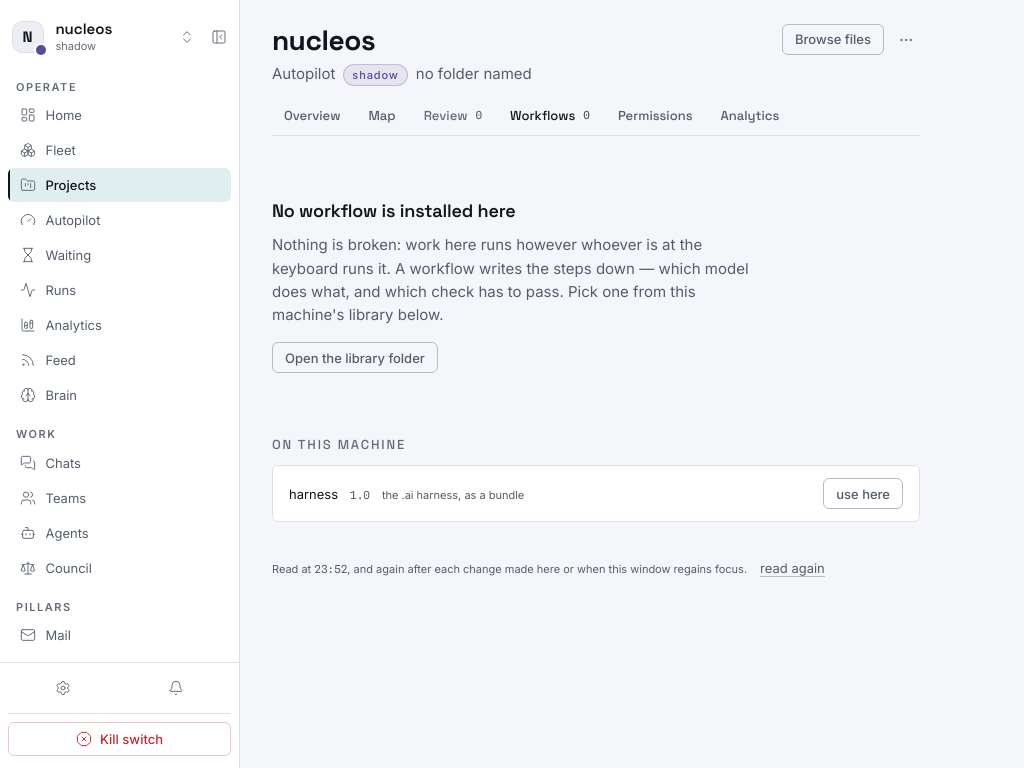
Test: the workflows mode › says so when the background service gives no reply to a change
The image size is (1024, 768).
Click the button "use here" at (863, 494), box [823,478,903,509]
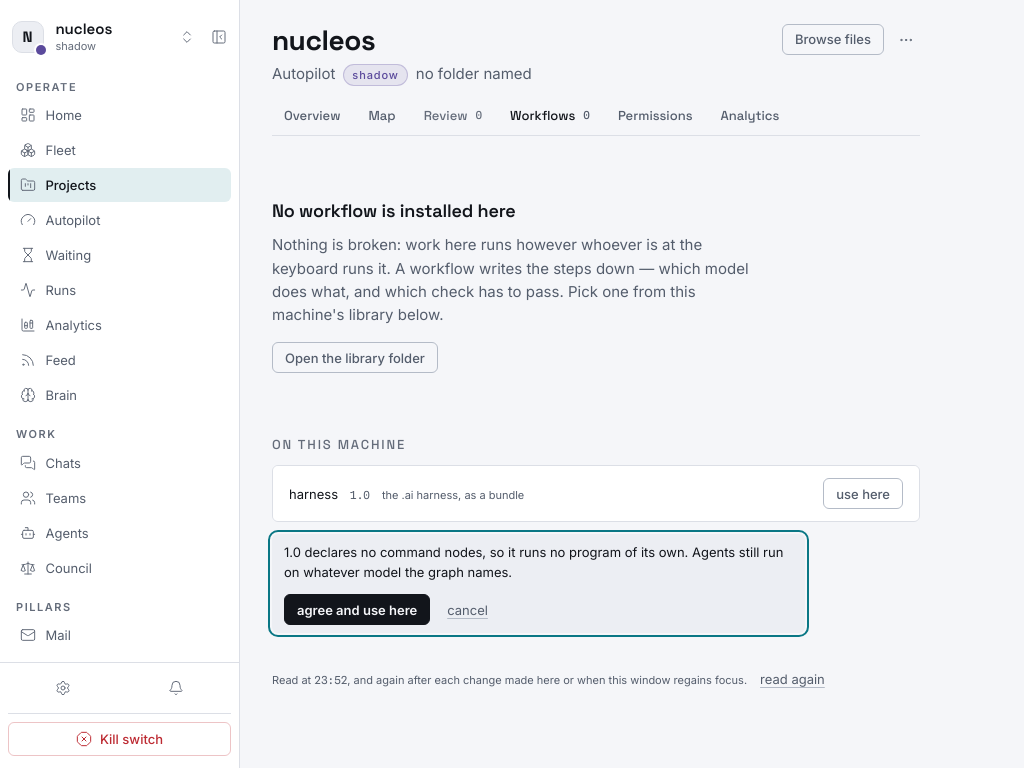
Check: the button "agree and use here" is enabled
Click the button "agree and use here" at (357, 610), box [284,594,430,626]
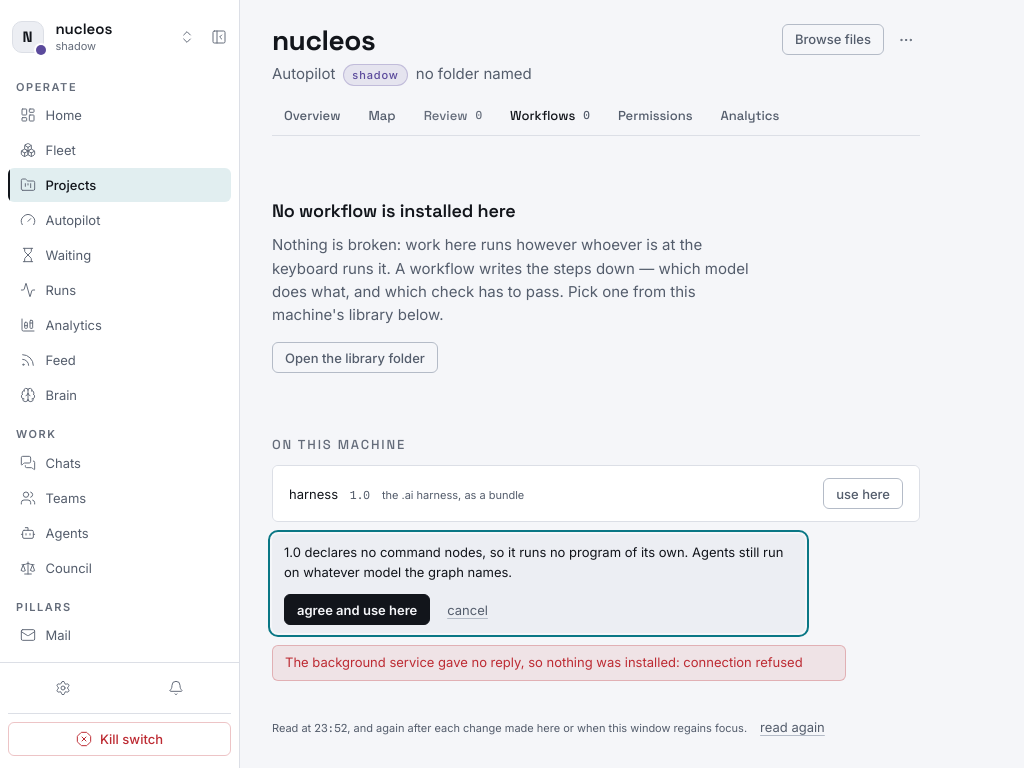
Check: the text "nothing was installed: connection refused" is shown, box [285,654,833,672]
